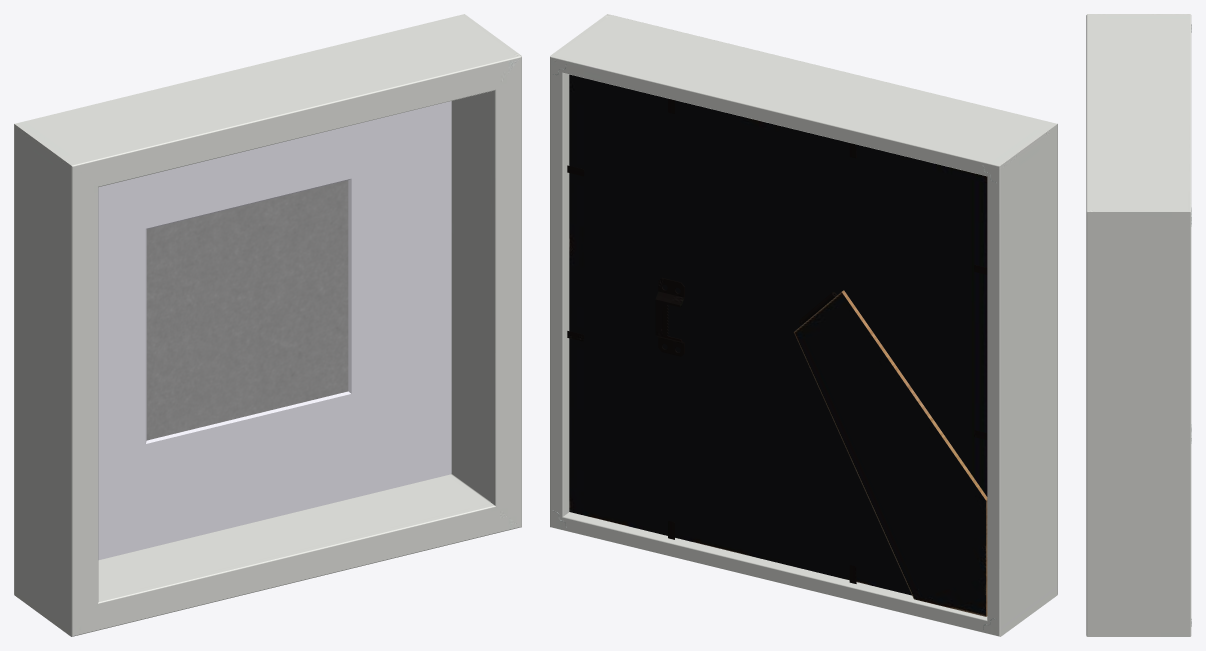
Rendered from sannahed_ramka_00459116.glb.
3 renders of one model, left to right at view 1: azimuth 30°, elevation 25°; view 2: azimuth 150°, elevation 25°; view 3: azimuth 270°, elevation 25°, orthographic. The views are drawn at different scales.
Parts seen in each view (by area): view 1: sannahed_ramka_00459116; view 2: sannahed_ramka_00459116; view 3: sannahed_ramka_00459116.
Part boxes in pixels (bbox=[...]): sannahed_ramka_00459116: bbox=[14, 14, 521, 636]; sannahed_ramka_00459116: bbox=[550, 14, 1057, 636]; sannahed_ramka_00459116: bbox=[1086, 14, 1191, 636].
Size of the model in its own units: 0.268 by 0.268 by 0.0601.
2 materials, 2 textured.
